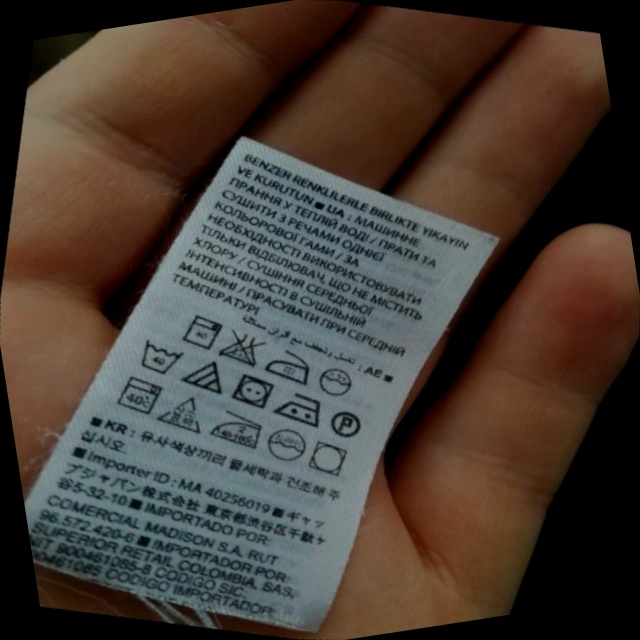40C: (113, 367, 170, 424), (133, 331, 193, 385), (178, 306, 230, 358)
dry_clean: (260, 419, 316, 470), (312, 358, 363, 407)
dry_clean_any_solvent_except_trichloroethylene: (325, 402, 370, 444)
iron: (260, 340, 320, 392)
iron_medium: (205, 402, 272, 458), (271, 384, 330, 434)
non_chlorine_bleach: (155, 387, 214, 443), (178, 351, 234, 402)
tumble_dry_medium: (225, 363, 284, 417)
tumble_dry_normal: (300, 433, 358, 487)
